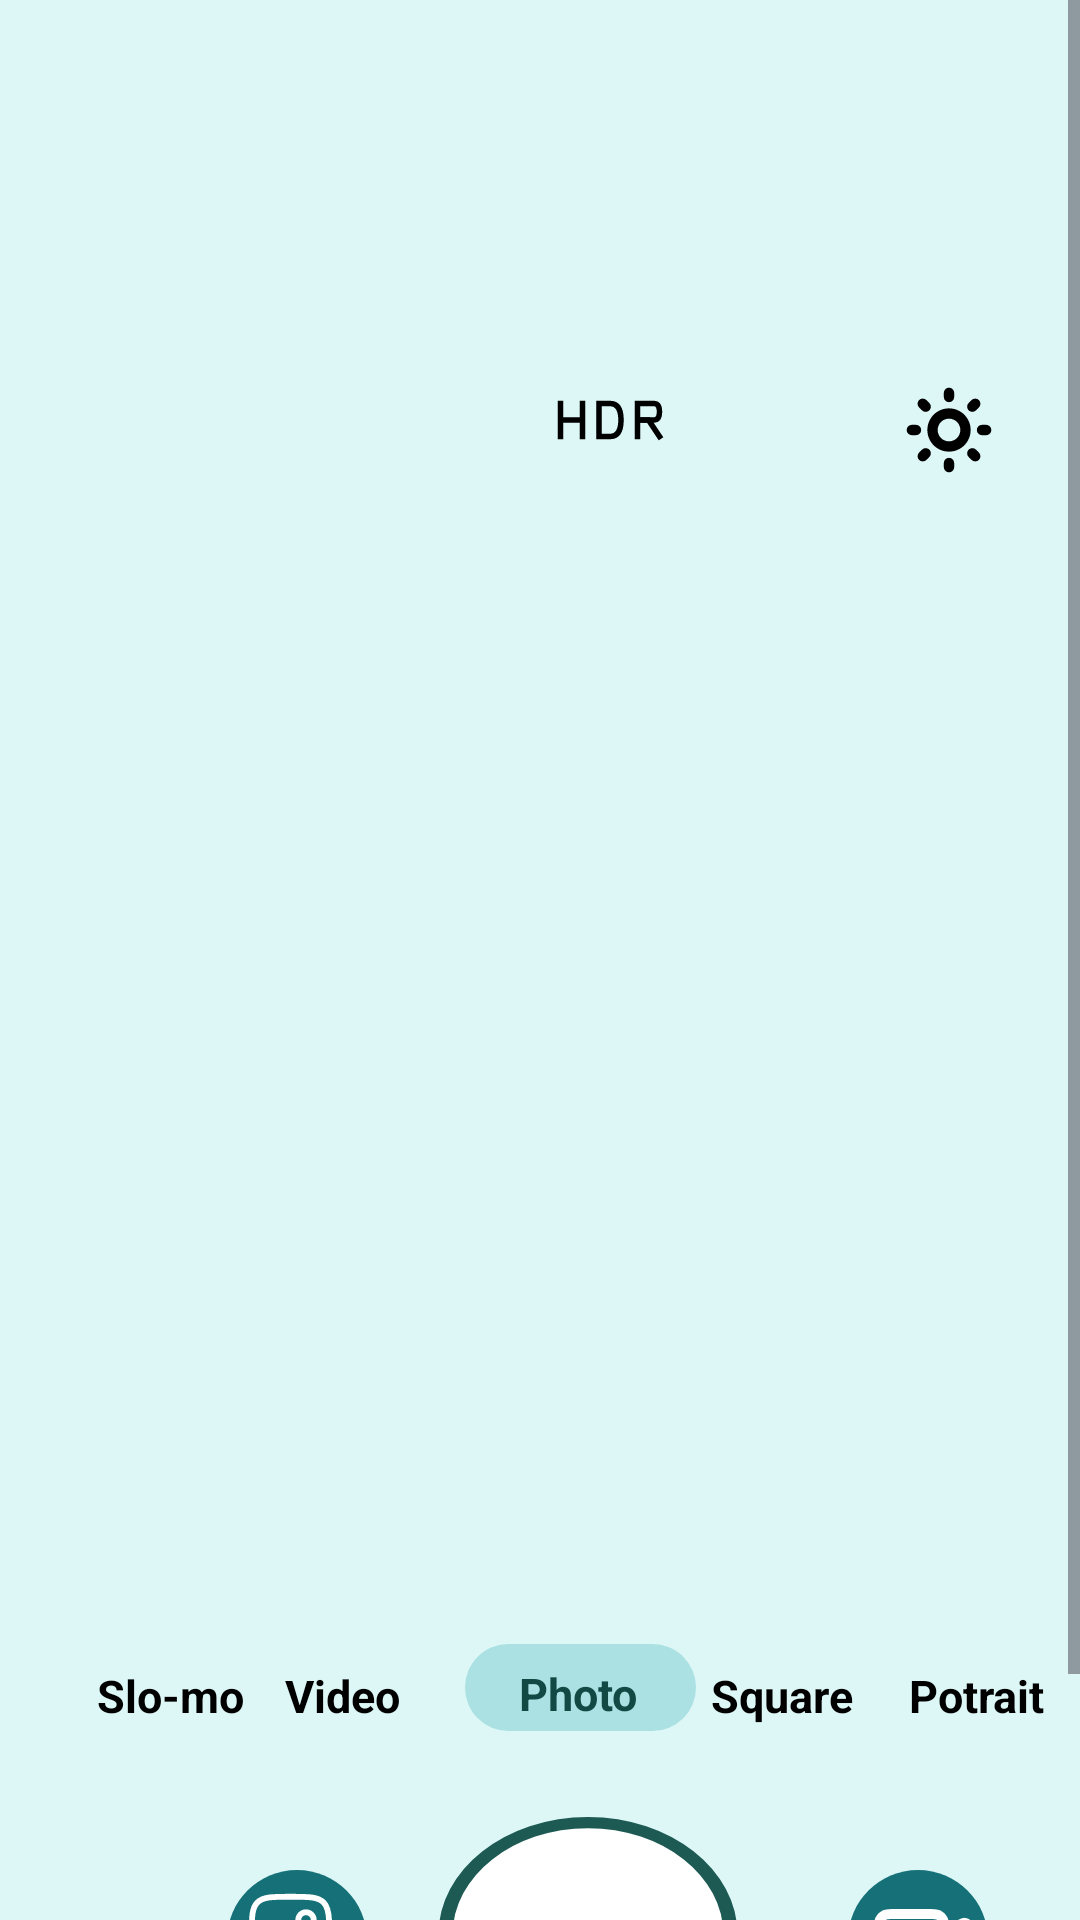

Screen size 1080px×1920px. Icon name, then its center in pixels as (x,y):
bright: (949,430)
